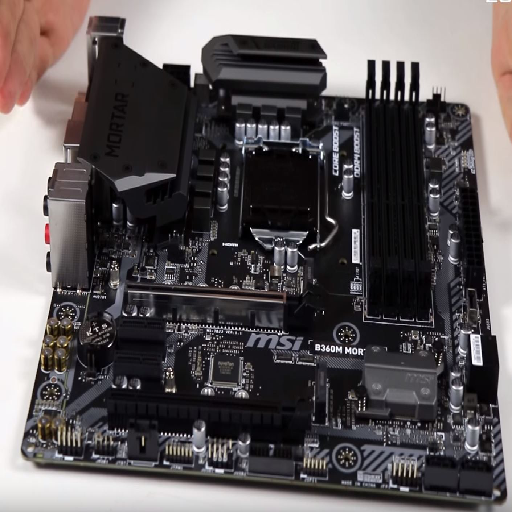CPU: (231, 121, 324, 263)
GPU: (105, 388, 314, 442), (121, 279, 321, 326)
MOTHERBOARD: (20, 21, 505, 506)
RAM: (359, 58, 435, 327)
